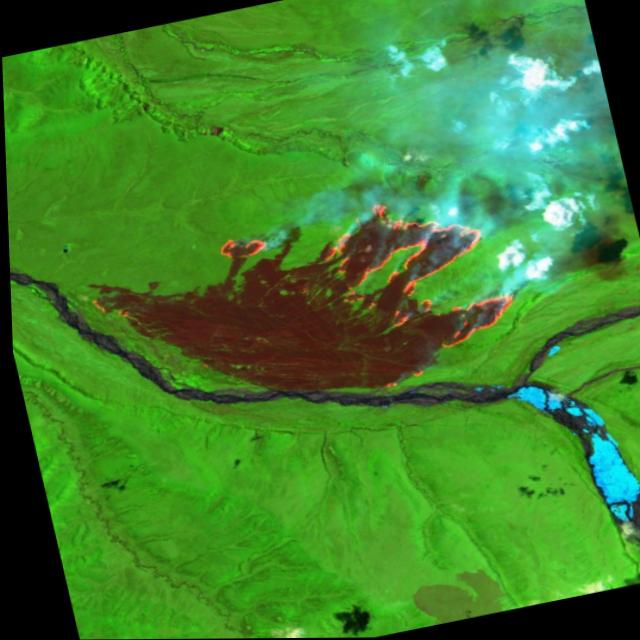fire: (311, 178, 525, 369), (203, 225, 275, 273), (84, 287, 131, 328)
